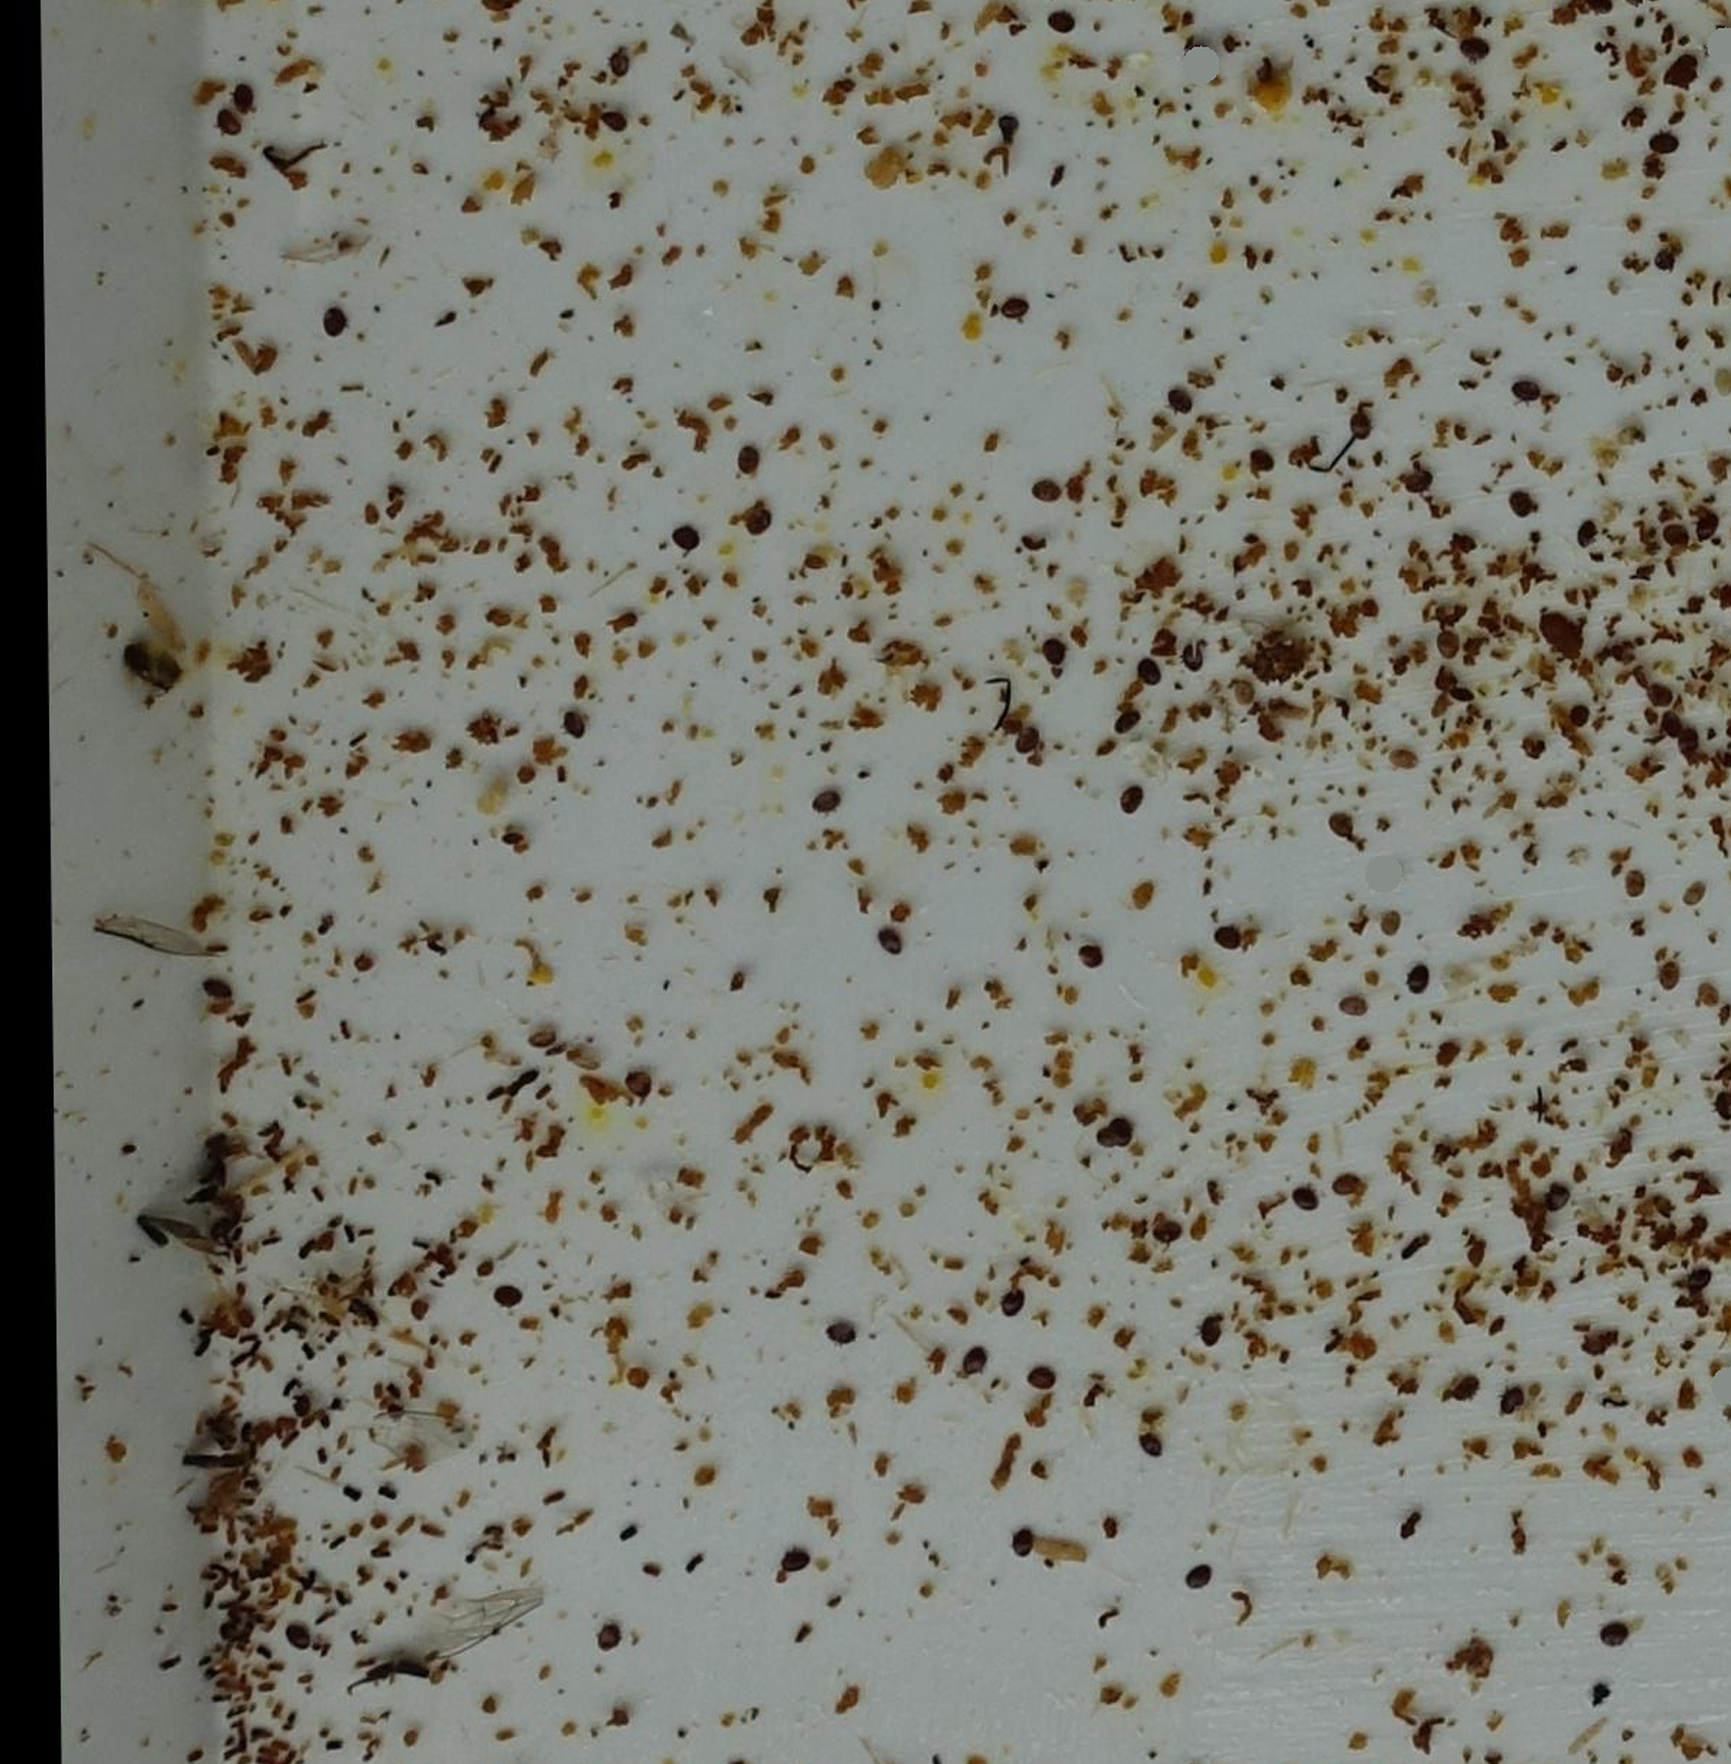Varroa: (463, 97, 507, 139), (1243, 48, 1286, 92), (1087, 1116, 1132, 1159), (1668, 720, 1710, 762), (1441, 672, 1484, 715), (1183, 1560, 1216, 1594), (823, 1323, 854, 1358), (1105, 1122, 1137, 1155), (1286, 1182, 1317, 1216), (224, 87, 255, 120), (1390, 742, 1423, 773), (317, 309, 349, 341), (1151, 1212, 1183, 1244), (1512, 377, 1542, 410), (1656, 957, 1687, 991), (736, 502, 762, 539), (1016, 731, 1046, 762), (1339, 994, 1370, 1025), (1452, 1374, 1482, 1406), (594, 1628, 625, 1658), (1649, 682, 1679, 712), (1458, 33, 1488, 63), (959, 1354, 989, 1384), (1246, 445, 1276, 475), (1504, 487, 1534, 517), (1010, 1529, 1038, 1560), (1118, 785, 1146, 815), (1034, 477, 1062, 507), (999, 298, 1029, 326), (1571, 518, 1599, 548), (813, 789, 842, 819), (1167, 391, 1195, 422), (1029, 1368, 1057, 1398), (778, 1550, 807, 1580), (732, 444, 761, 474), (880, 930, 908, 960), (1332, 1174, 1360, 1205), (1649, 135, 1679, 163), (1691, 510, 1720, 540), (1194, 1314, 1222, 1344), (623, 1078, 652, 1106), (601, 106, 629, 135), (1403, 967, 1431, 995), (1615, 872, 1644, 900), (1003, 1292, 1032, 1320), (1682, 1270, 1710, 1298), (1436, 631, 1465, 659), (1544, 1187, 1572, 1216), (1660, 713, 1688, 742), (292, 1388, 320, 1417), (1661, 523, 1690, 552), (1079, 941, 1106, 972), (1404, 469, 1431, 499), (1382, 907, 1409, 937), (203, 978, 230, 1006), (498, 1277, 525, 1306), (1328, 813, 1355, 842), (1603, 1621, 1630, 1650), (1214, 922, 1241, 951), (1343, 418, 1371, 445), (1137, 662, 1164, 691), (1649, 247, 1676, 276), (1496, 1385, 1523, 1414), (1138, 1426, 1165, 1455), (1680, 880, 1707, 908), (533, 1025, 560, 1054), (1045, 636, 1072, 662), (606, 44, 632, 71), (558, 712, 583, 740), (288, 1625, 314, 1651), (1114, 715, 1140, 742), (1181, 648, 1206, 675), (1049, 8, 1075, 33), (680, 525, 702, 548), (1568, 710, 1592, 732)
